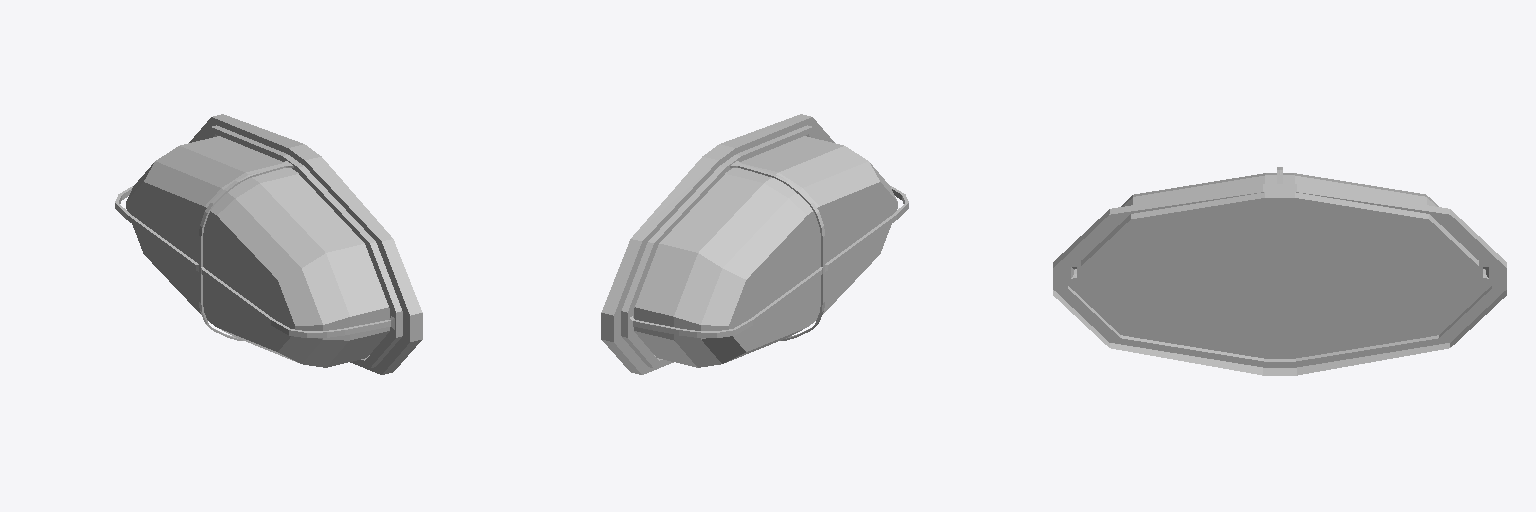
Rendered from Wall Lamp Small 2.obj.
The picture shows the model from 3 angles: view 1: azimuth 30°, elevation 25°; view 2: azimuth 150°, elevation 25°; view 3: azimuth 270°, elevation 25°; orthographic projection.
Parts seen in each view (by area): view 1: Bulb Wall_Lamp_Small_2, Wall_Lamp_Small_2 Fixture; view 2: Bulb Wall_Lamp_Small_2, Wall_Lamp_Small_2 Fixture; view 3: Wall_Lamp_Small_2 Fixture, Bulb Wall_Lamp_Small_2.
Part boxes in pixels (x1,y1,x2,y2): Bulb Wall_Lamp_Small_2: (126, 136, 389, 367); Wall_Lamp_Small_2 Fixture: (115, 114, 422, 374); Bulb Wall_Lamp_Small_2: (634, 136, 897, 367); Wall_Lamp_Small_2 Fixture: (601, 114, 908, 374); Wall_Lamp_Small_2 Fixture: (1053, 167, 1506, 375); Bulb Wall_Lamp_Small_2: (1121, 173, 1438, 206).
Size of the model in its own units: 0.2244 by 0.3445 by 0.7723.